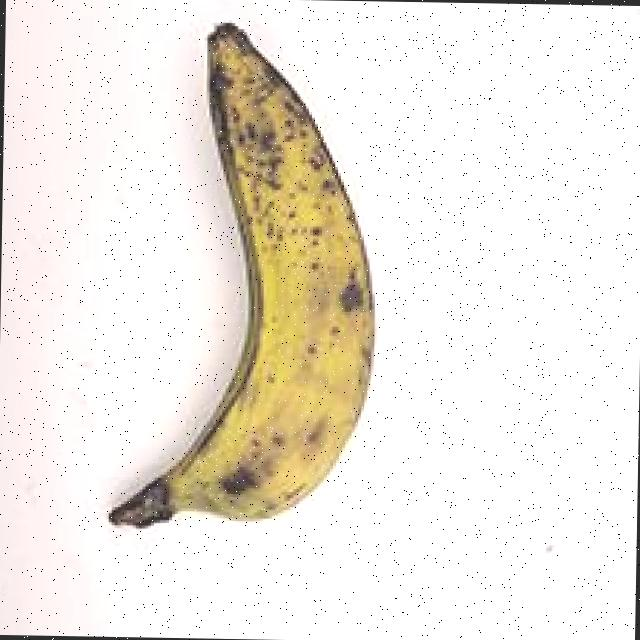Overripe: (71, 4, 428, 560)
